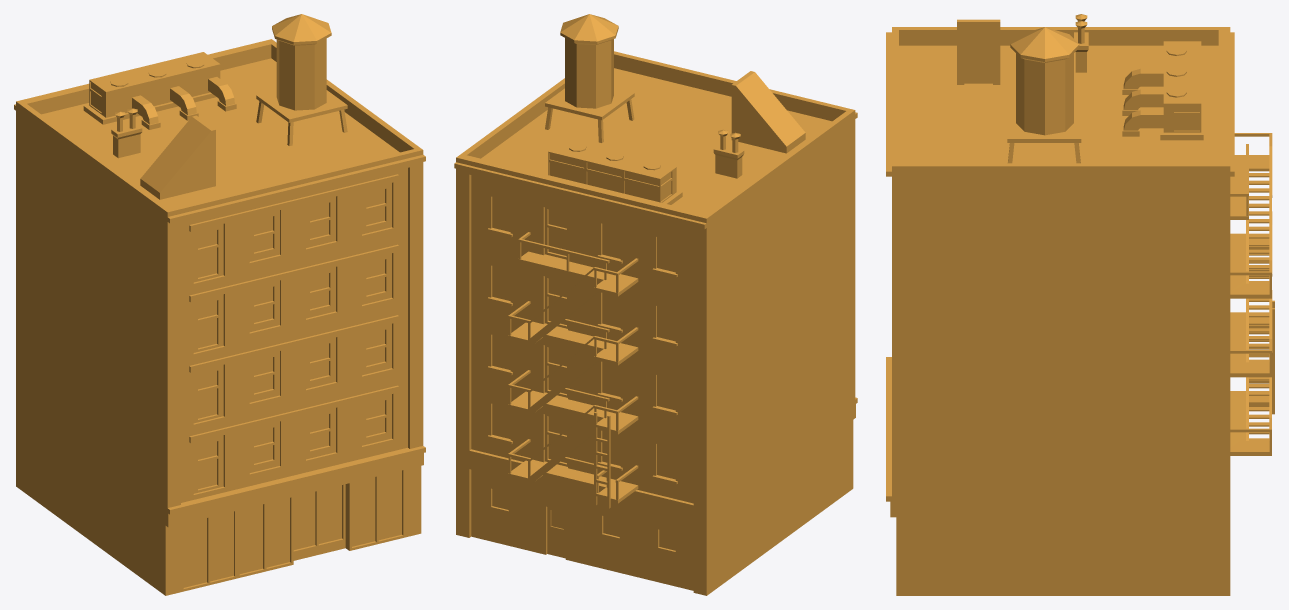
Rendered from building-block-4floor-back.fbx.
The picture shows the model from 3 angles, left to right: view 1: azimuth 30°, elevation 25°; view 2: azimuth 150°, elevation 25°; view 3: azimuth 270°, elevation 25°; orthographic projection. The views are drawn at different scales.
Parts seen in each view (by area): view 1: building-block-4floor-back; view 2: building-block-4floor-back; view 3: building-block-4floor-back.
Boxes of the visible parts, <box> form: building-block-4floor-back: <box>14,14,425,595</box>; building-block-4floor-back: <box>454,14,857,595</box>; building-block-4floor-back: <box>886,14,1274,595</box>.
Size of the model in its own units: 11.4 by 20.61 by 13.45.
